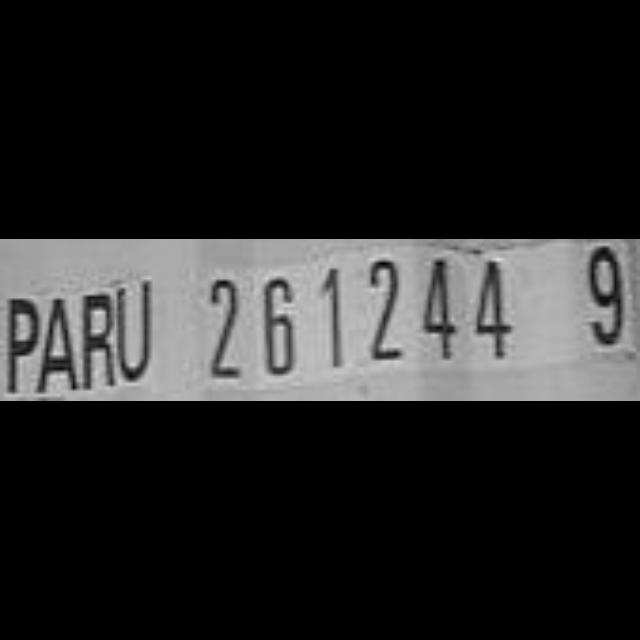1: (314, 262, 348, 376)
2: (206, 272, 248, 391), (363, 248, 403, 366)
4: (413, 248, 461, 370), (468, 250, 516, 370)
6: (261, 270, 301, 386)
9: (586, 240, 640, 354)
a: (36, 294, 80, 402)
p: (1, 288, 44, 402)
r: (78, 279, 118, 401)
u: (115, 274, 157, 400)
